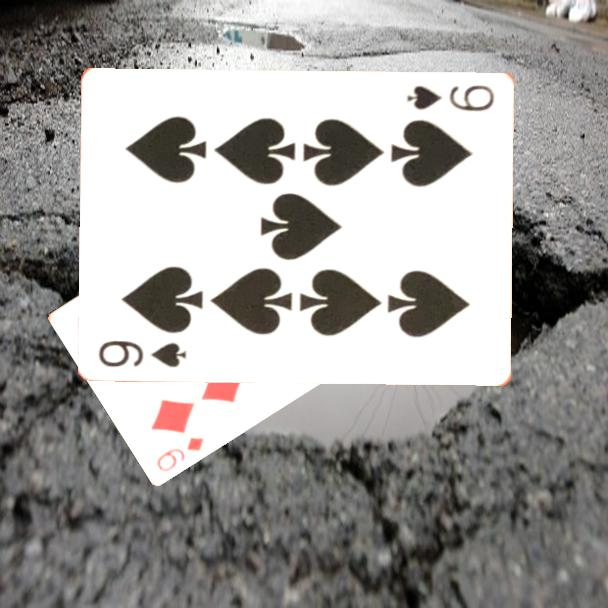d09: (153, 433, 207, 474)
s09: (403, 81, 498, 114), (96, 337, 190, 370)
